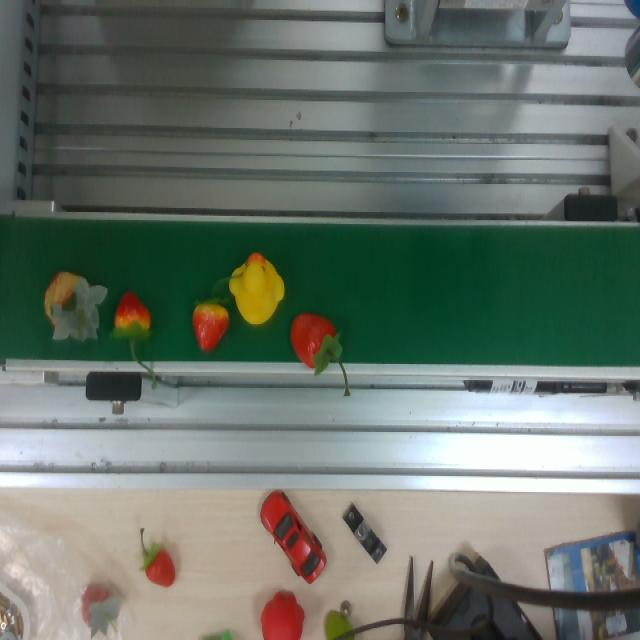Moldy Strawberry: (0, 212, 640, 376), (41, 268, 105, 344)
Small Ripe Strawberry: (294, 301, 352, 378)
Small Unripe Strawberry: (185, 288, 229, 353), (115, 292, 158, 353)
conveyor: (229, 248, 286, 330)
